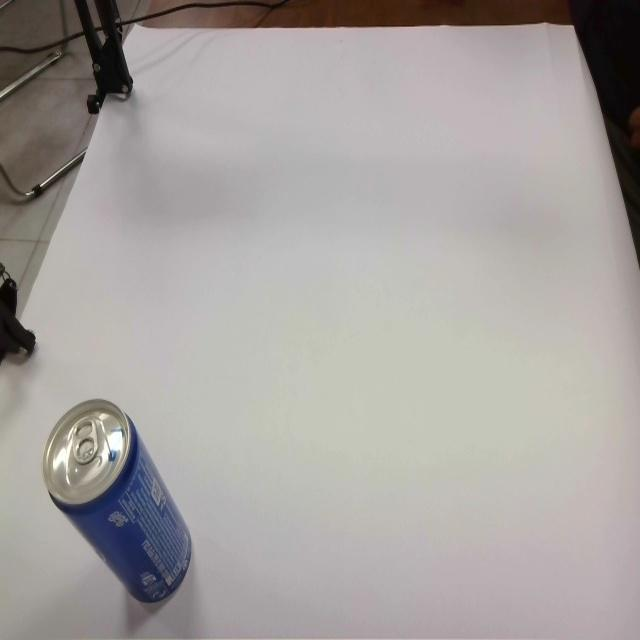debris: (41, 397, 193, 604)
